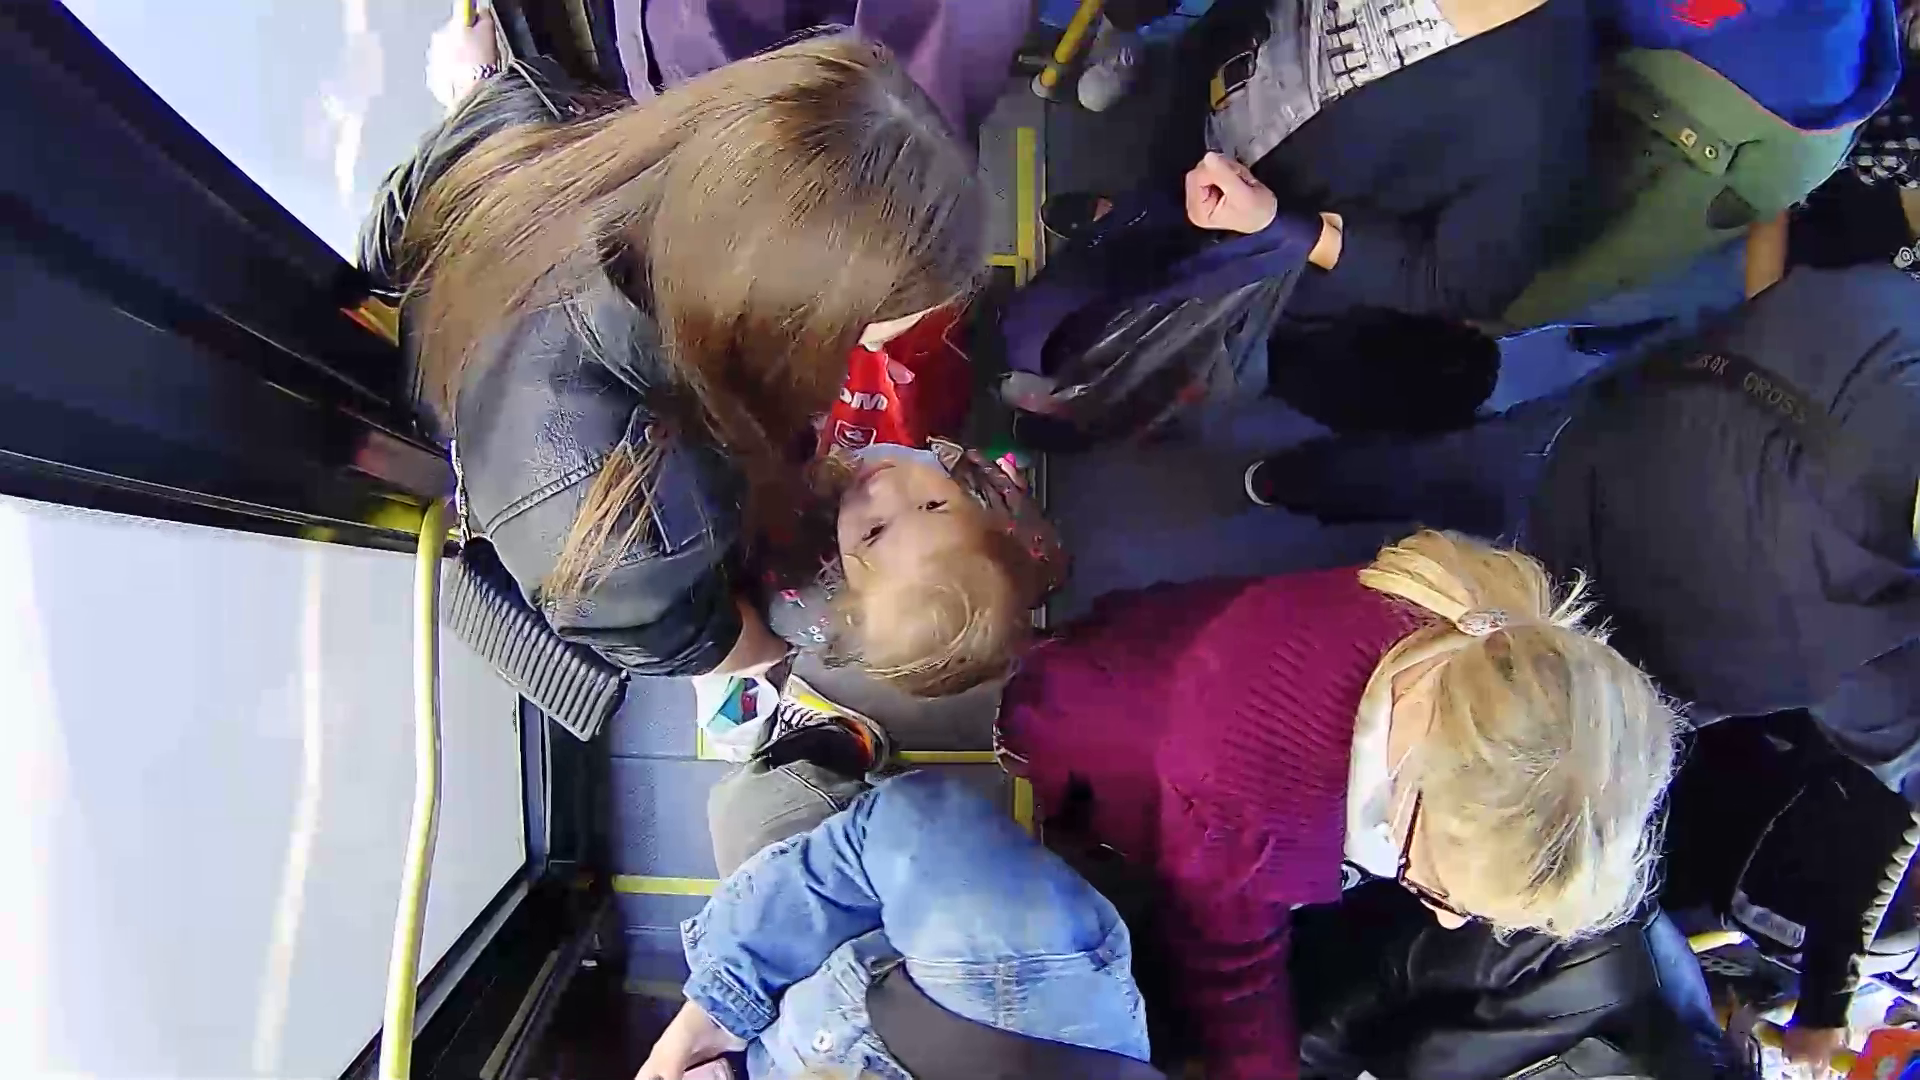person: (384, 72, 997, 633), (1066, 505, 1737, 976)
